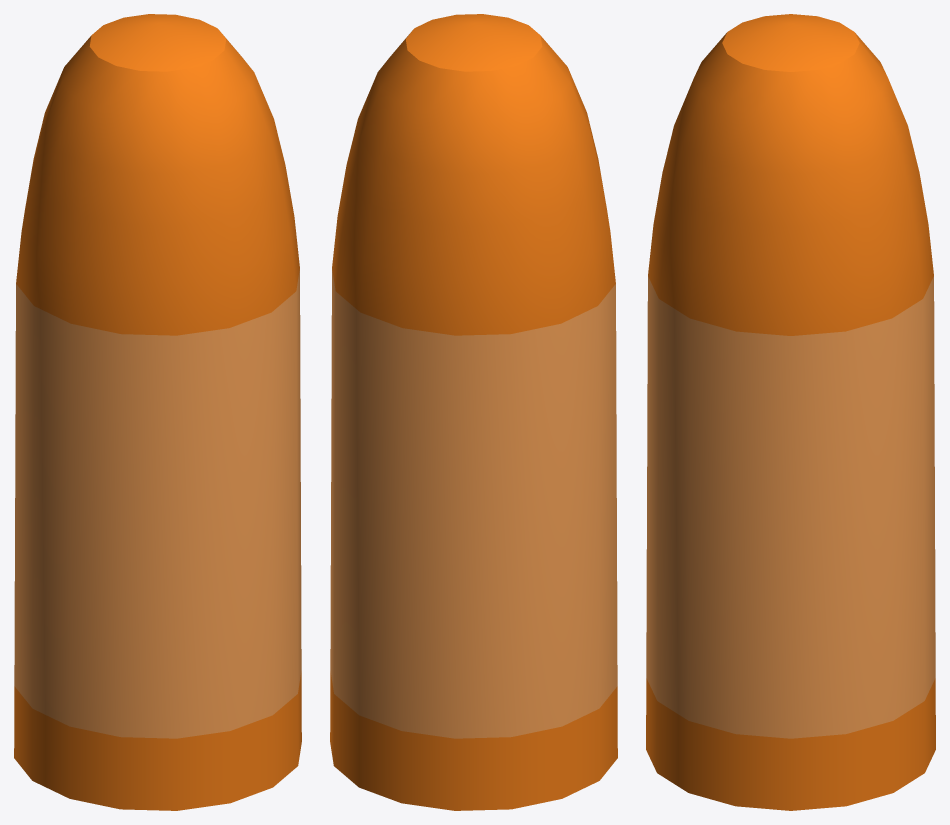
File: Bullet A.fbx
3 renders of one model, left to right at view 1: azimuth 30°, elevation 25°; view 2: azimuth 150°, elevation 25°; view 3: azimuth 270°, elevation 25°, orthographic.
Parts seen in each view (by area): view 1: Bullet A; view 2: Bullet A; view 3: Bullet A.
Part boxes in pixels (x1,y1,x2,y2): Bullet A: (14, 14, 301, 810); Bullet A: (330, 14, 617, 810); Bullet A: (646, 14, 935, 810).
Size of the model in its own units: 0.0664 by 0.1833 by 0.0664.
